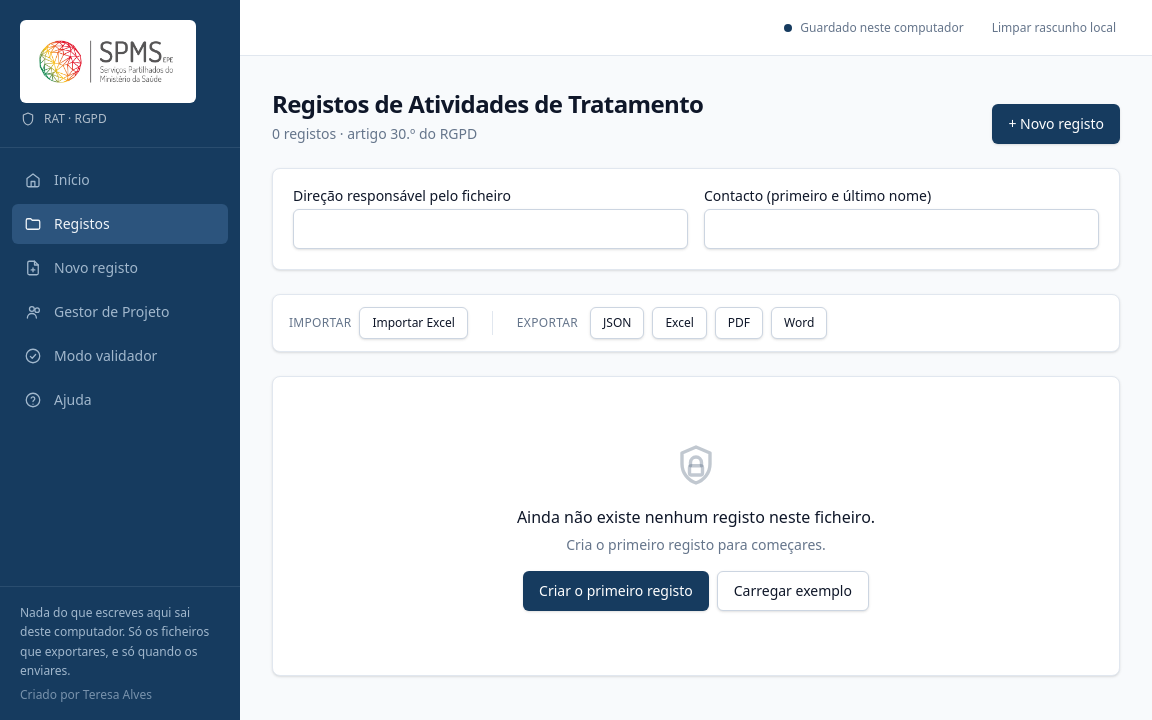
wizard de preenchimento › mostra as definições do RGPD e o artigo de cada conceito
Click the button "+ Novo registo": (1056, 124) left=992, top=104, right=1120, bottom=144
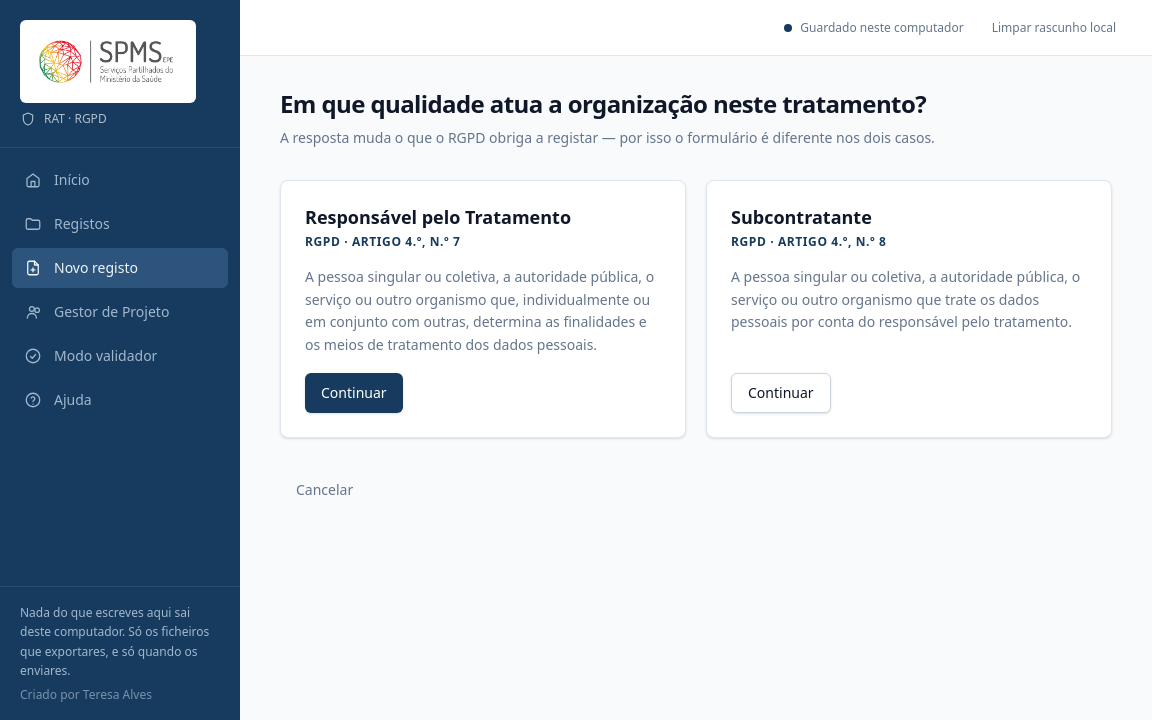
expect the text "A pessoa singular ou coletiva, a autoridade pública, o serviço ou outro organismo que, individualmente ou em conjunto co" is shown: met, box left=305, top=267, right=654, bottom=354
expect the text "A pessoa singular ou coletiva, a autoridade pública, o serviço ou outro organismo que trate os dados pessoais por conta " is shown: met, box left=731, top=267, right=1080, bottom=331
expect the text "RGPD · Artigo 4.º, n.º 7" is shown: met, box left=305, top=233, right=461, bottom=250
